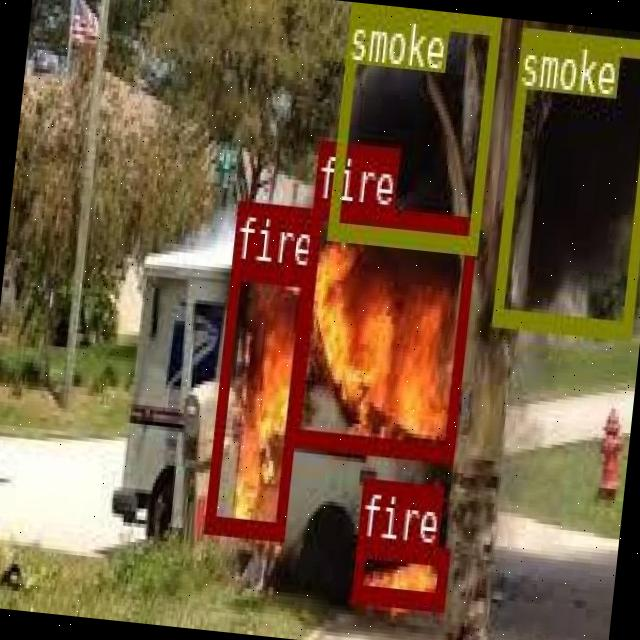fire: (286, 196, 476, 459), (202, 258, 310, 537), (350, 538, 447, 608)
smoke: (491, 27, 640, 334), (326, 2, 498, 252)
